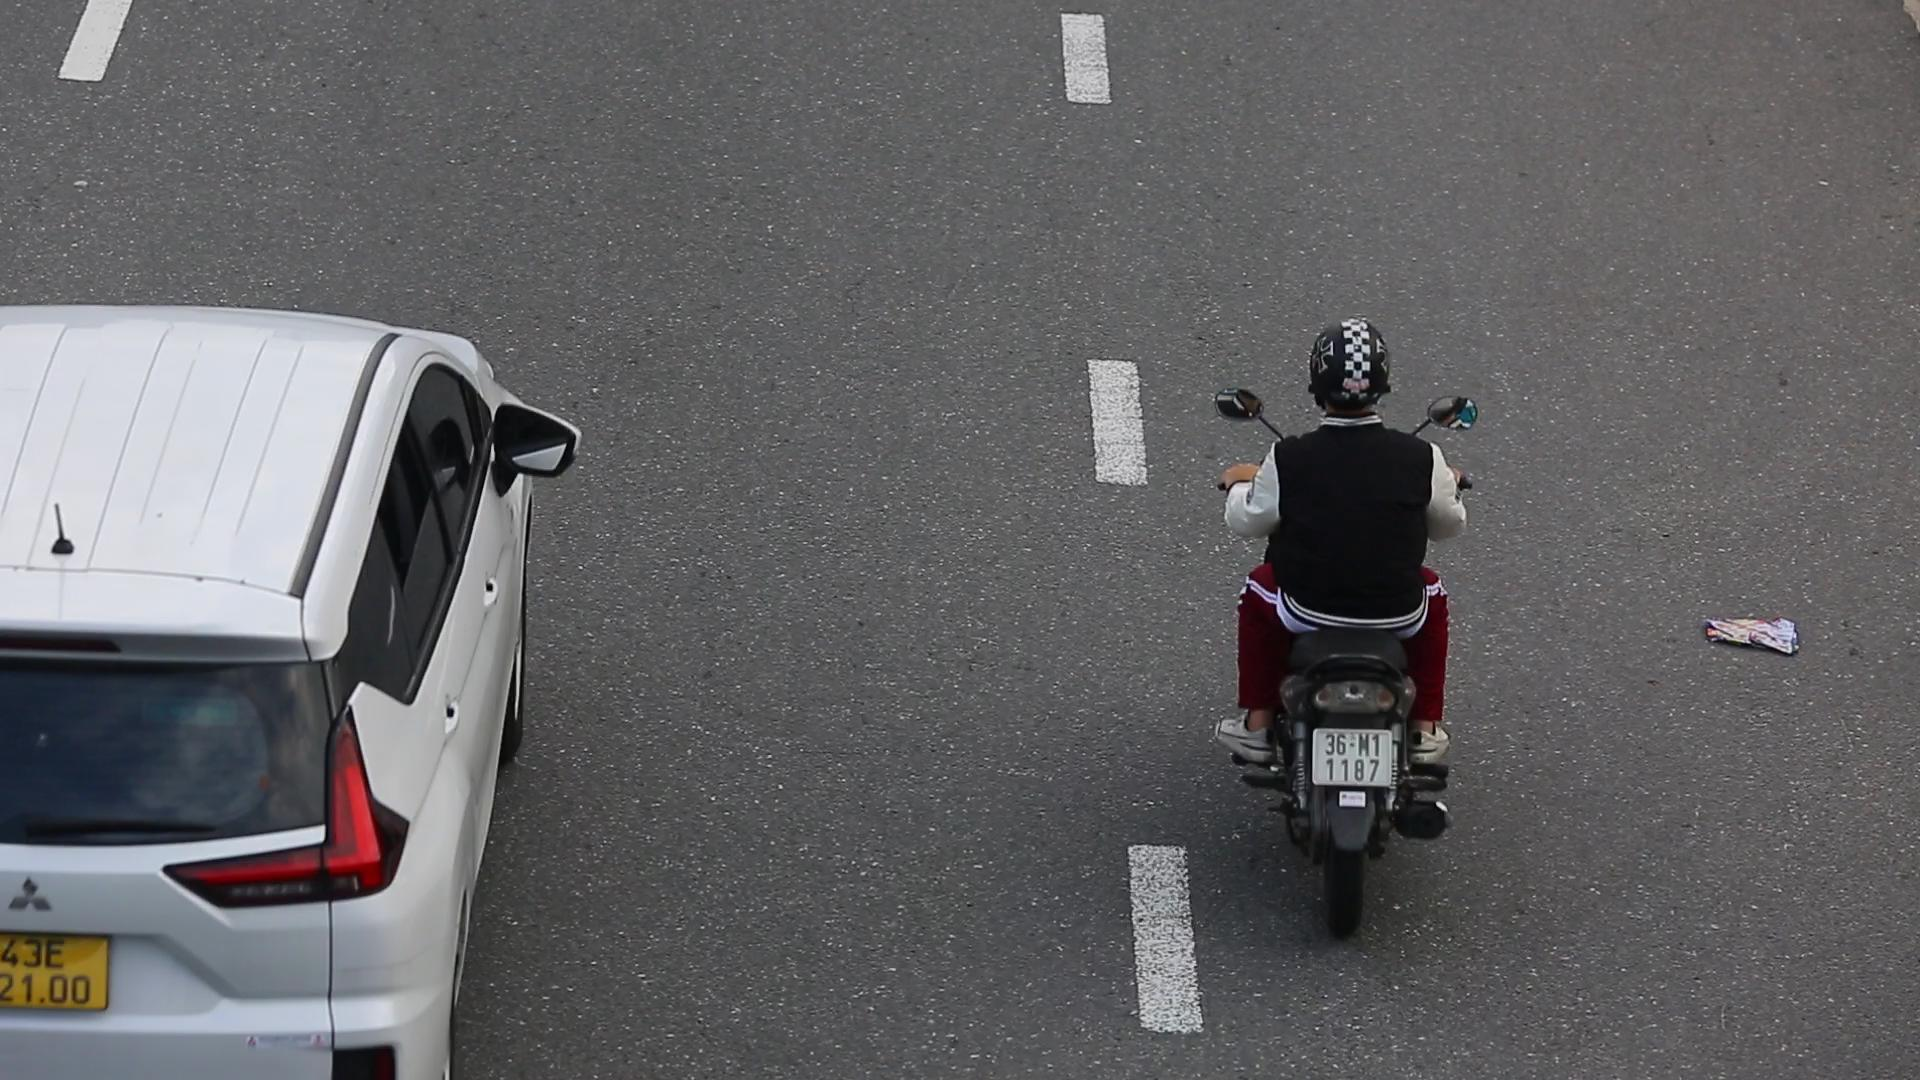motobike: (1205, 313, 1491, 952)
